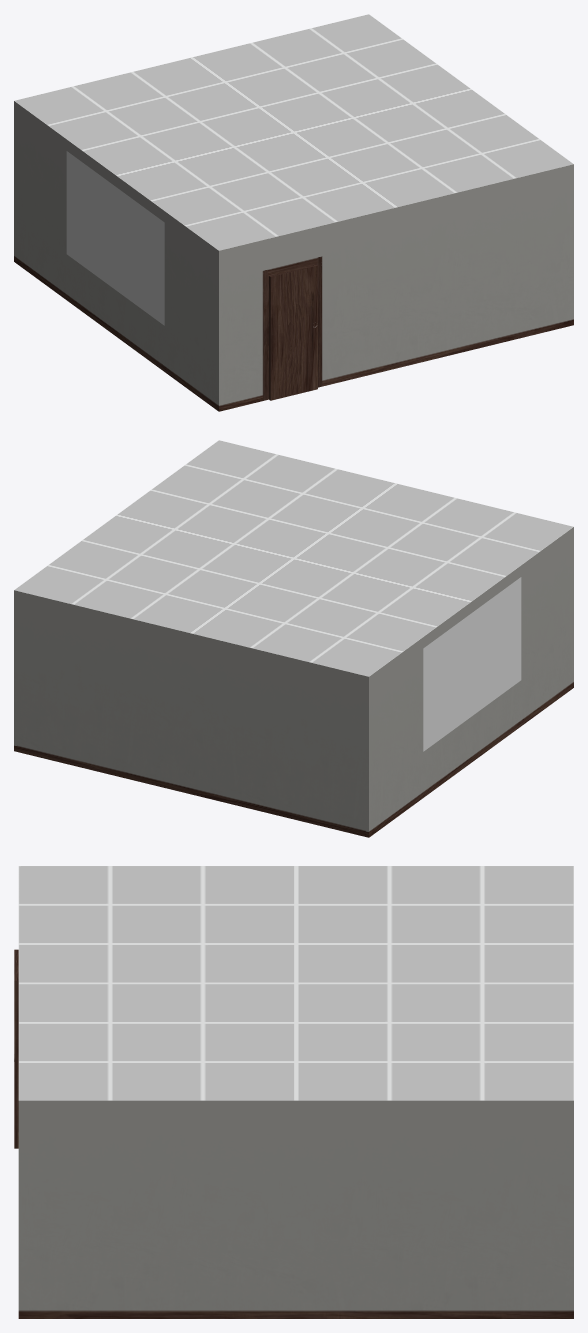
File: AllRoom.fbx
3 renders of one model, top to bottom at view 1: azimuth 30°, elevation 25°; view 2: azimuth 150°, elevation 25°; view 3: azimuth 270°, elevation 25°, orthographic. The views are drawn at different scales.
Parts seen in each view (by area): view 1: Room, WindowPlate; view 2: Room, WindowPlate; view 3: Room.
Part boxes in pixels (x1=…): Room: x1=14, y1=14, x2=573, y2=411; WindowPlate: x1=66, y1=151, x2=164, y2=325; Room: x1=14, y1=440, x2=573, y2=837; WindowPlate: x1=423, y1=577, x2=521, y2=751; Room: x1=14, y1=866, x2=573, y2=1318.
Bounding box in the file's own units: 601 × 264 × 605.
